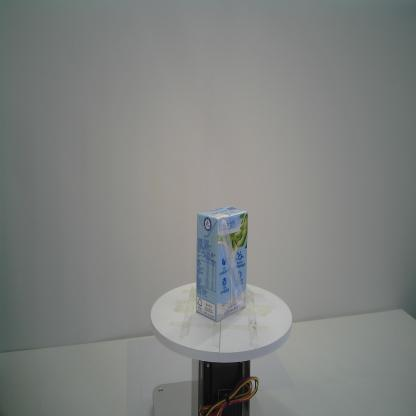Milk: (195, 206, 249, 324)
